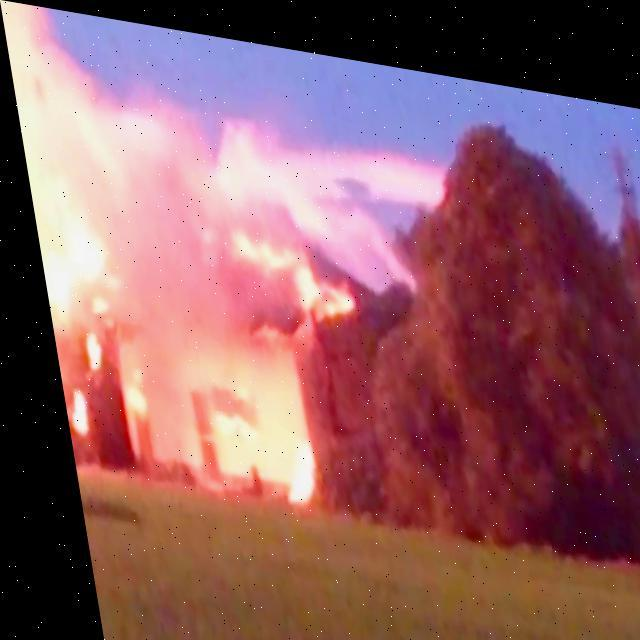Fire: (2, 6, 120, 332), (228, 222, 348, 310), (261, 426, 307, 504), (54, 386, 78, 438), (106, 378, 138, 416), (71, 330, 93, 372)
